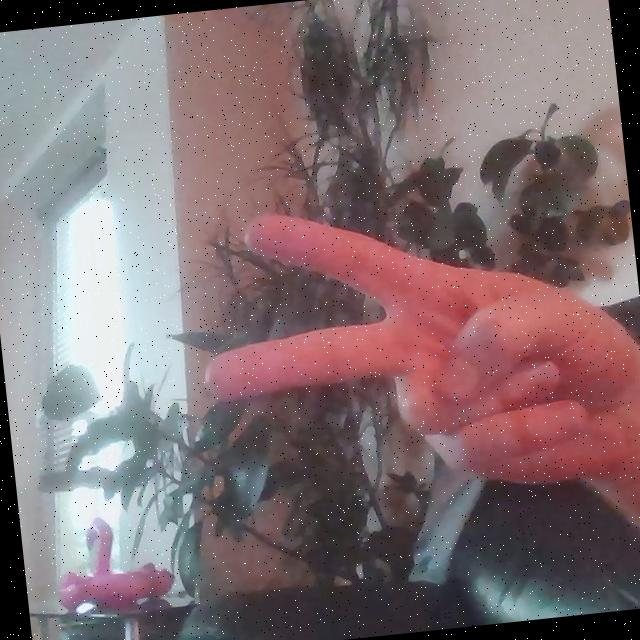scissors: (188, 178, 622, 527)
